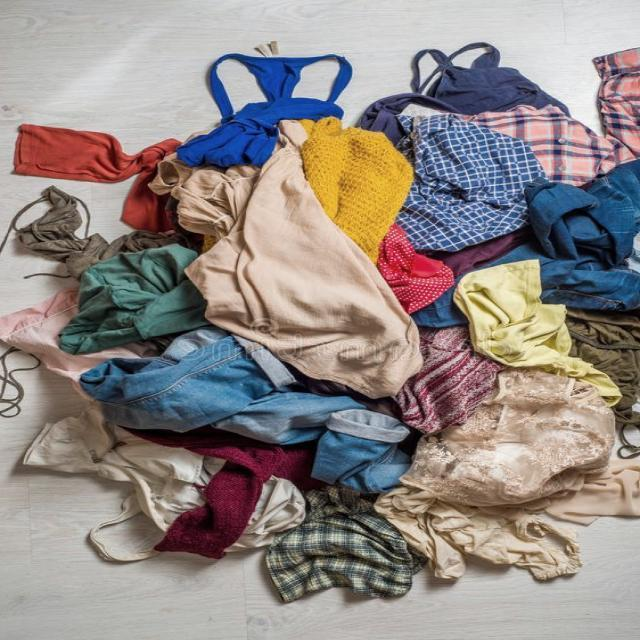clothes: (196, 128, 424, 394), (384, 369, 640, 591), (401, 44, 640, 260), (20, 422, 298, 566), (167, 41, 361, 174), (454, 263, 612, 405), (270, 483, 430, 606), (5, 125, 168, 229)
